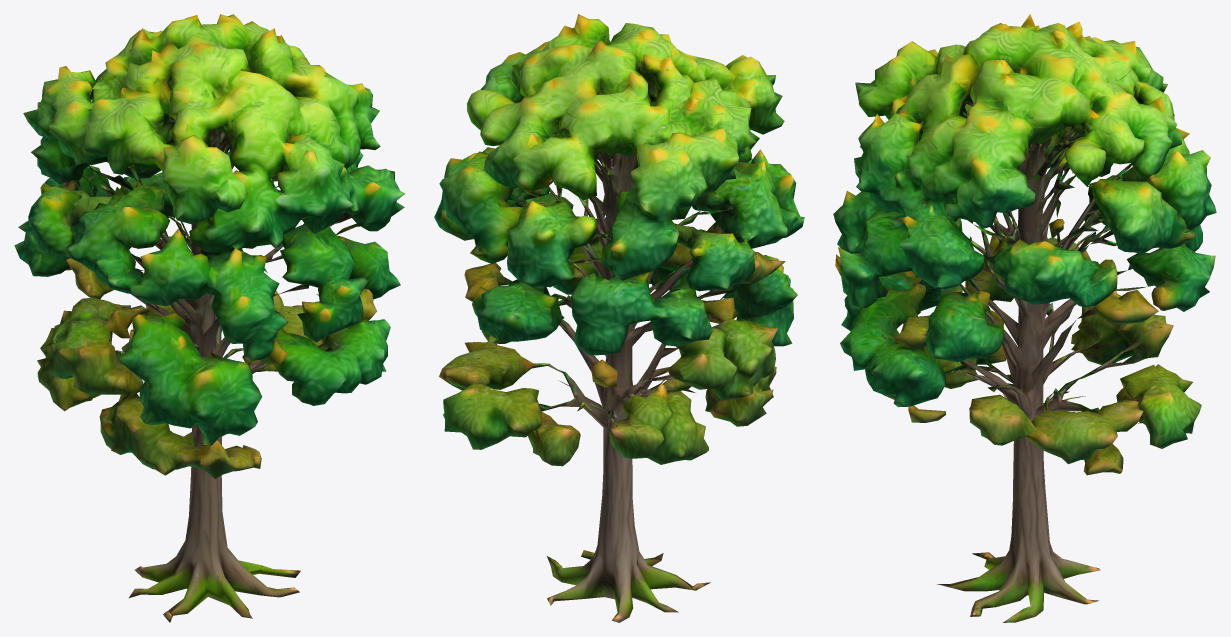
File: forest_tree.glb
3 views of the same model, side by side, from view 1: azimuth 30°, elevation 25°; view 2: azimuth 150°, elevation 25°; view 3: azimuth 270°, elevation 25° (orthographic).
Size of the model in its own units: 1.13 by 1.91 by 1.19.
1 material, 1 textured.
